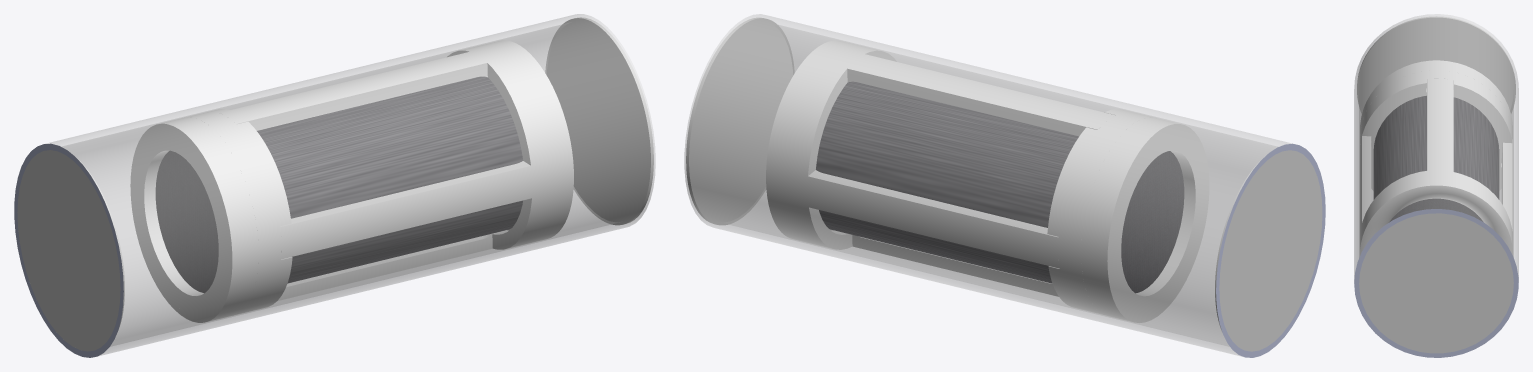
File: Romicolumns.glb
3 renders of one model, left to right at view 1: azimuth 30°, elevation 25°; view 2: azimuth 150°, elevation 25°; view 3: azimuth 270°, elevation 25°, orthographic. The views are drawn at different scales.
Visible parts, largest first — view 1: Lecho final aire; view 2: Lecho final aire; view 3: Lecho final aire.
Part boxes in pixels (x1,y1,x2,y2): Lecho final aire: (14, 14, 655, 357); Lecho final aire: (684, 14, 1325, 357); Lecho final aire: (1354, 14, 1518, 357).
Size of the model in its own units: 0.14 by 0.05 by 0.05.
6 materials, 2 textured.
